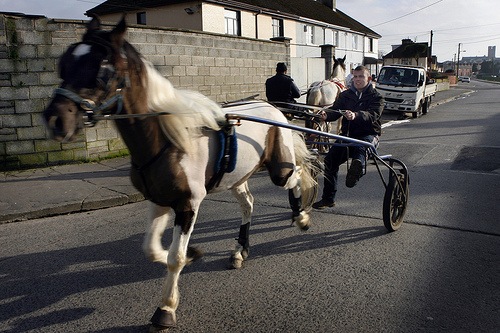horse: (43, 13, 320, 330), (303, 54, 348, 148)
